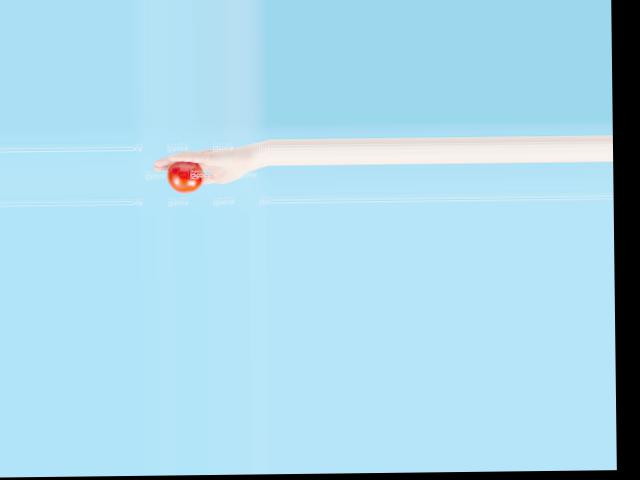tomato: (167, 161, 204, 193)
